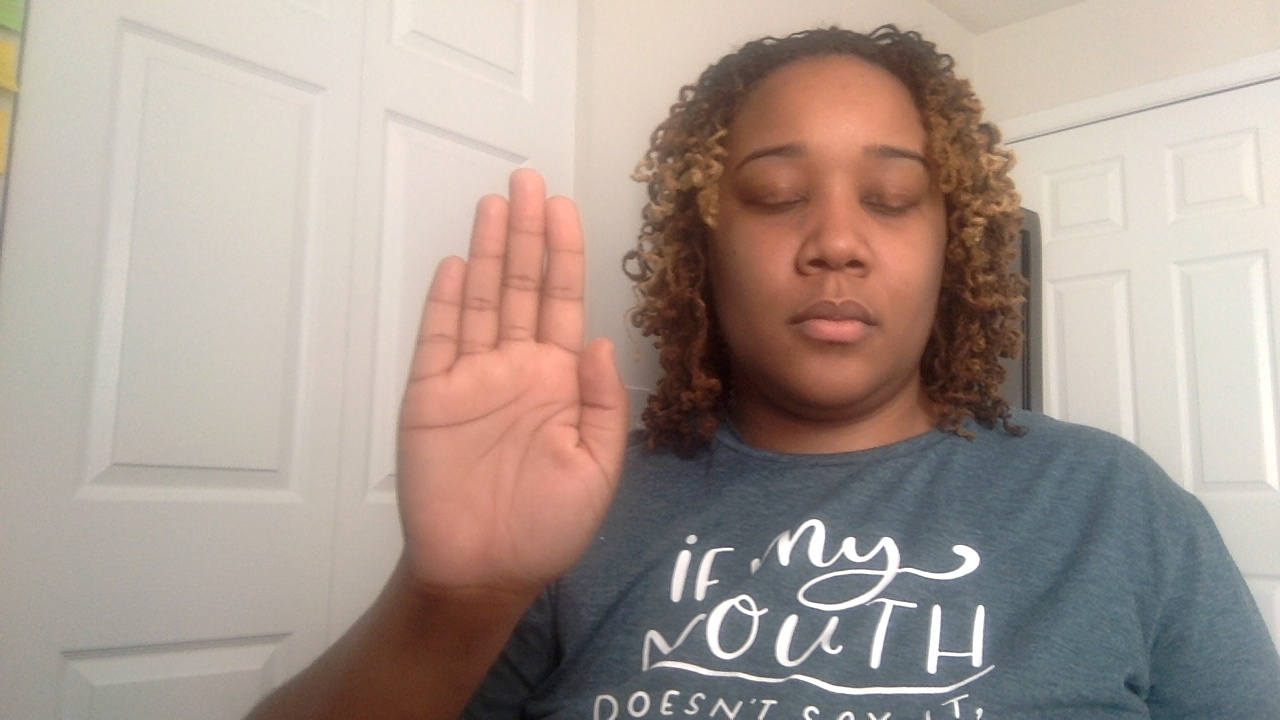hello: (262, 136, 650, 664)
